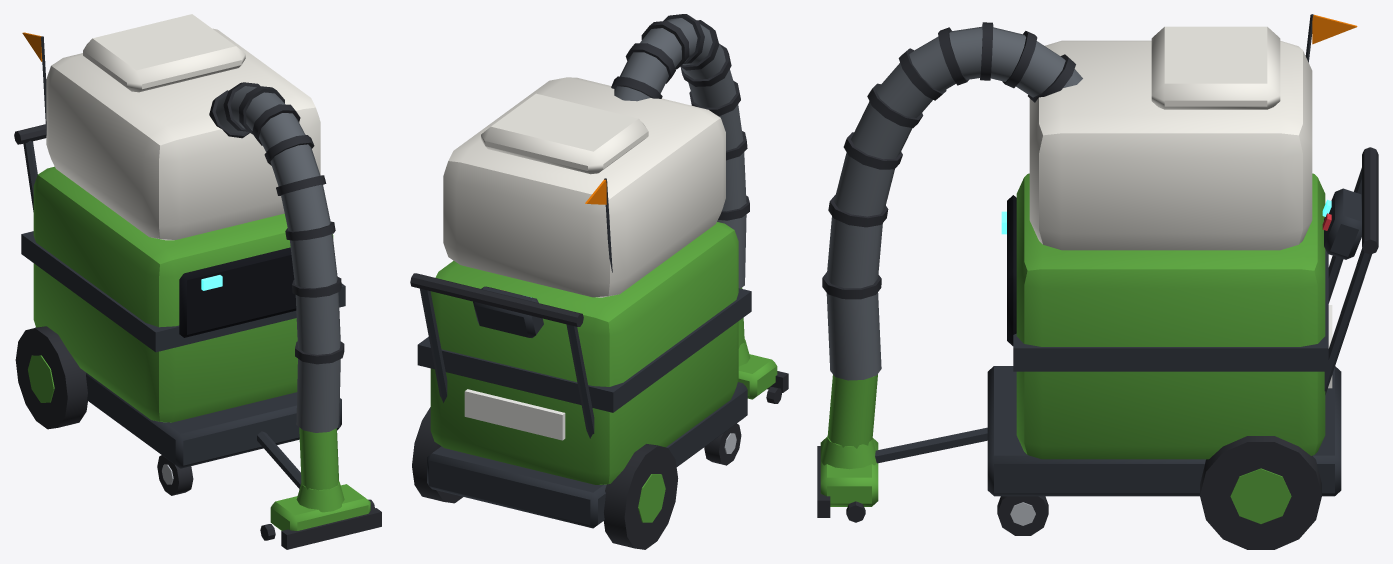
The model's file is litter_vacuum.glb.
3 views of the same model, side by side, from view 1: azimuth 30°, elevation 25°; view 2: azimuth 150°, elevation 25°; view 3: azimuth 270°, elevation 25° (orthographic). The views are drawn at different scales.
Visible parts, largest first — view 1: body; view 2: body; view 3: body.
Part boxes in pixels (left/top/right/bottom): body: left=14, top=14, right=381, bottom=549; body: left=410, top=14, right=788, bottom=549; body: left=817, top=14, right=1378, bottom=549.
Size of the model in its own units: 87.8 by 161 by 175.
